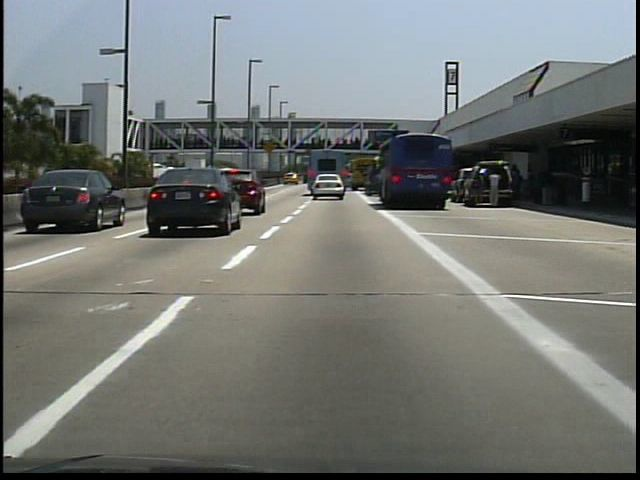person: (466, 166, 487, 214), (485, 165, 502, 211), (538, 165, 552, 208)
